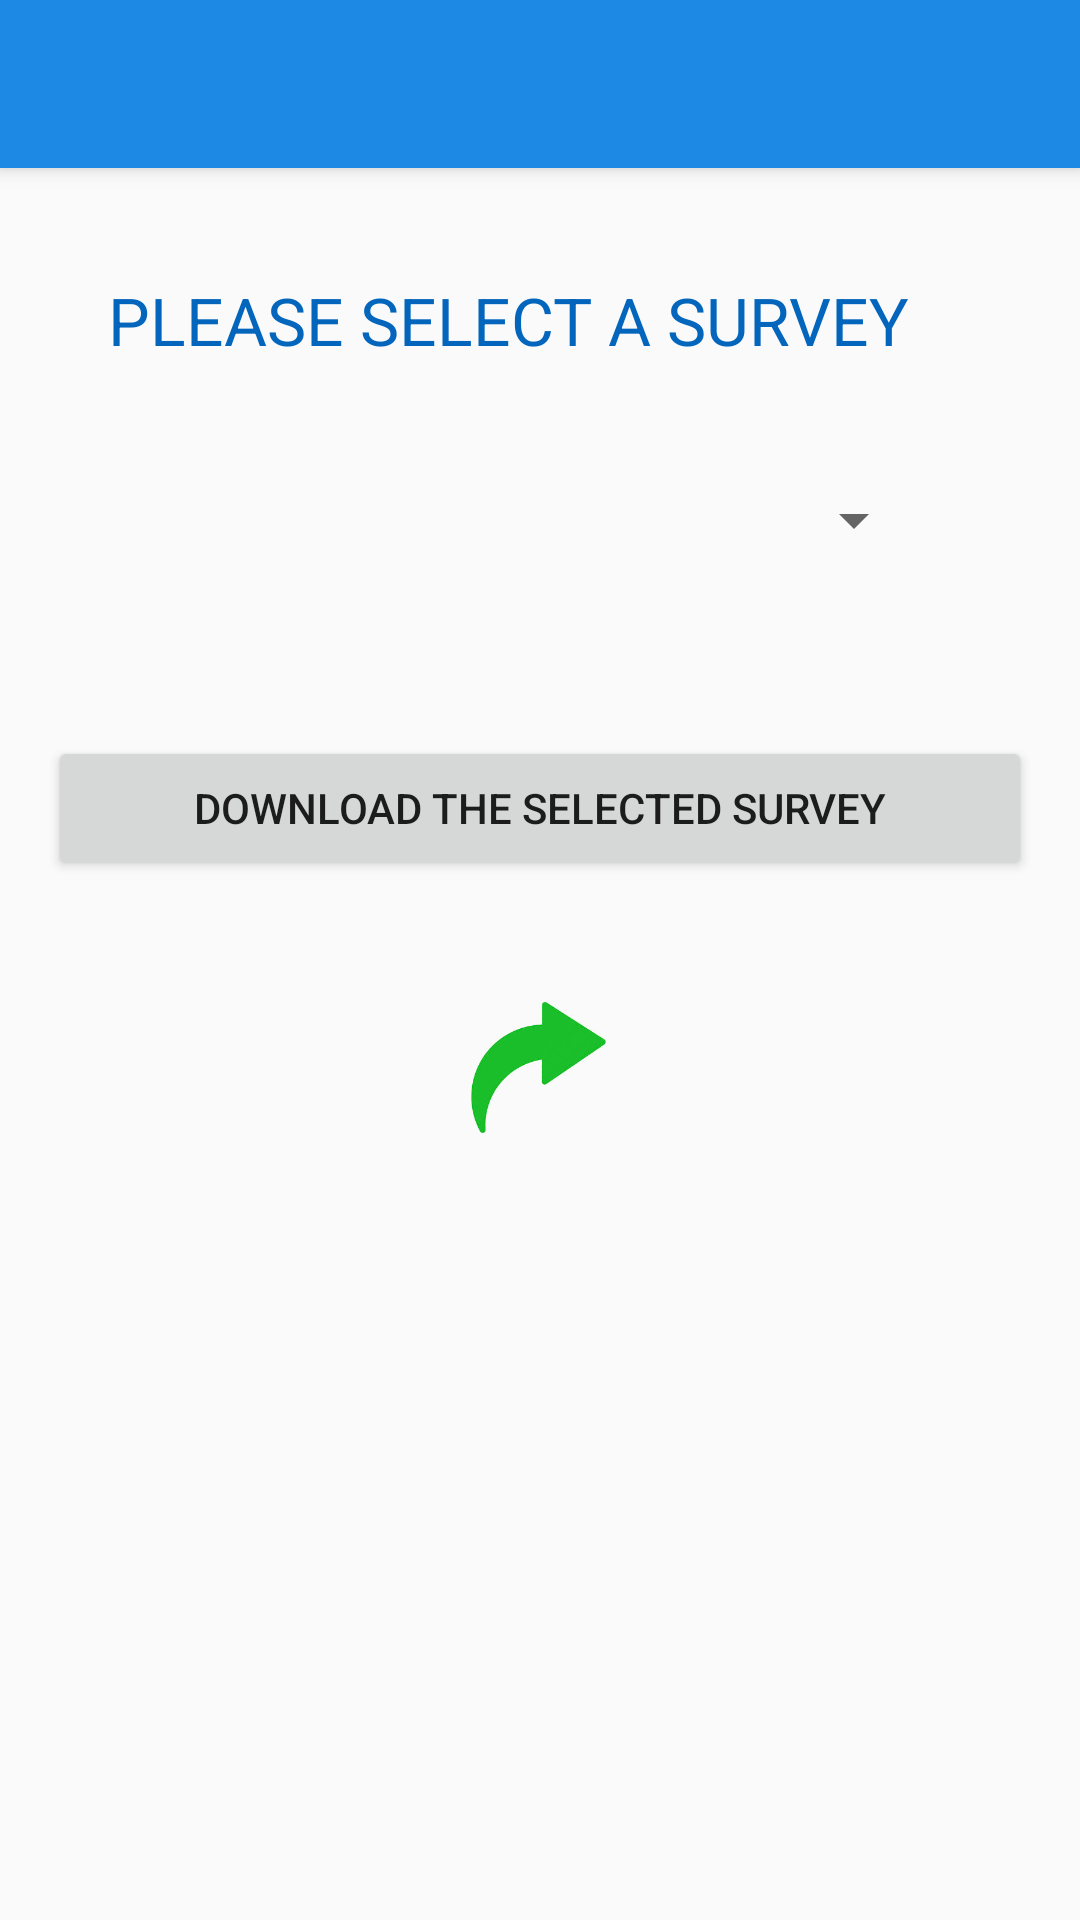

Where icons sit on this 1080 × 1920 app screen, as bbox=[x1, y1, x2, y2]:
forwardqq: bbox=[471, 1001, 606, 1133]
